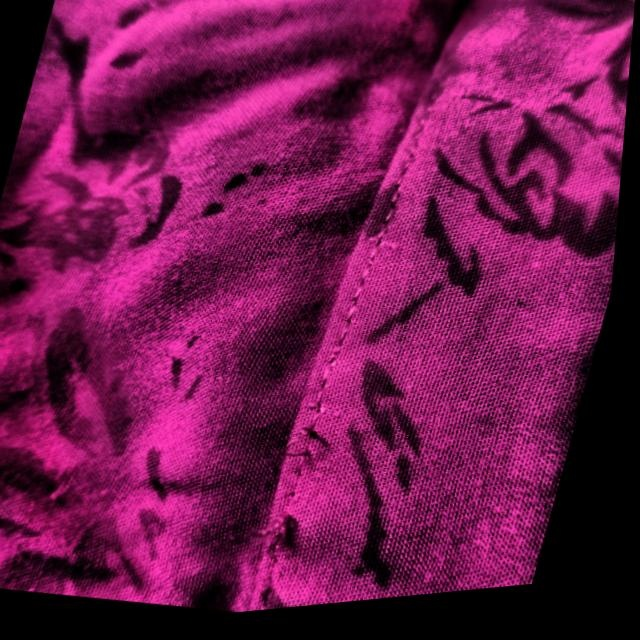Stitch: (236, 373, 383, 500), (223, 483, 344, 583)
